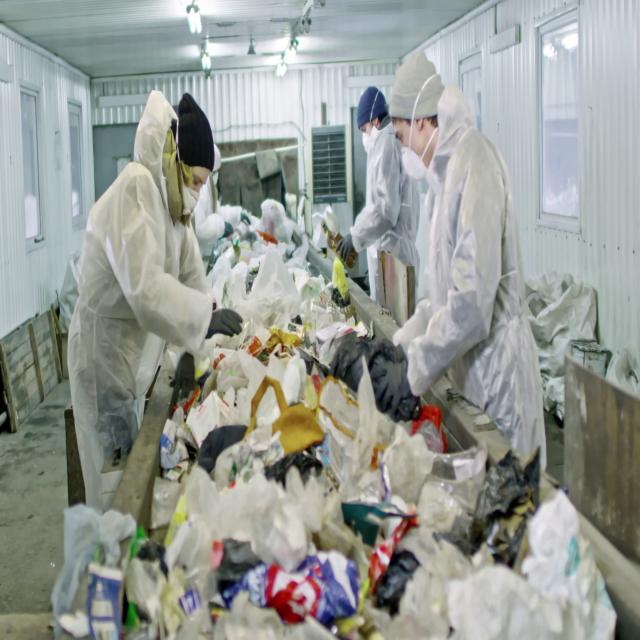gloved: (370, 360, 410, 416), (206, 308, 243, 339), (335, 233, 357, 268), (224, 221, 234, 237)
